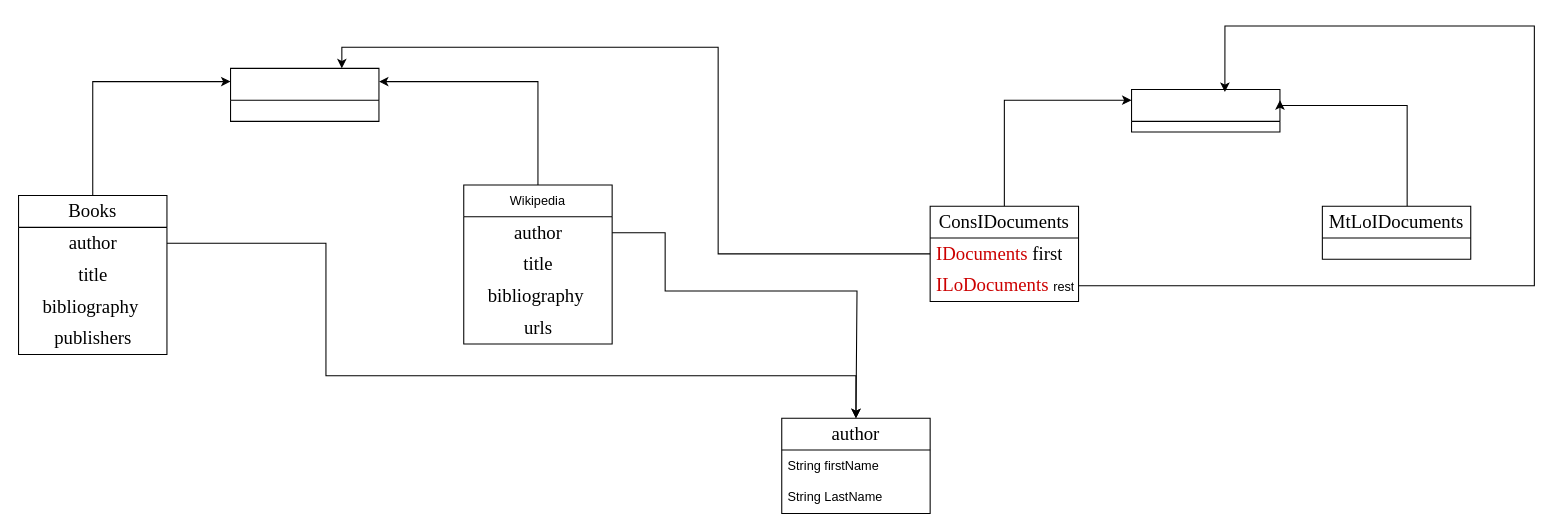
This 1561x532 diagram has some shape labels left out. The centre of each missing label's shape, as x and y in pixels:
"IDocuments" belongs at point 304,94.
"ILoDocuments" belongs at point 1205,110.
